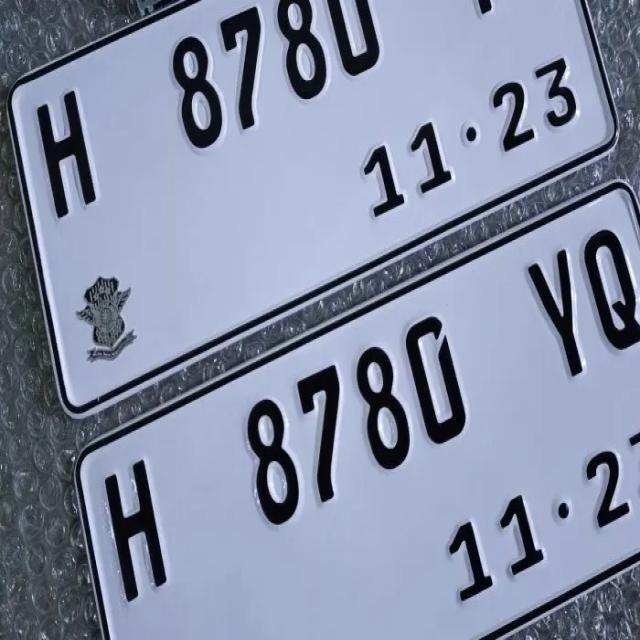license-plat: (66, 162, 640, 640)
